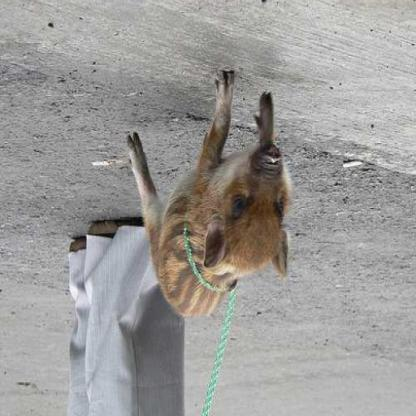boar: (131, 66, 307, 321)
